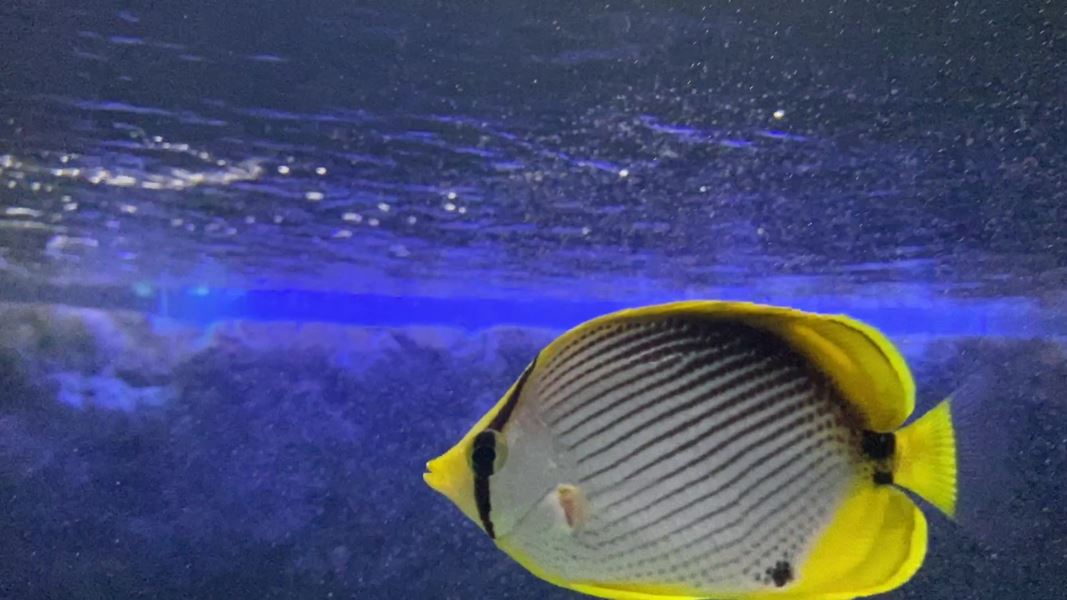Black-backed butterflyfish: (410, 287, 1029, 600)
